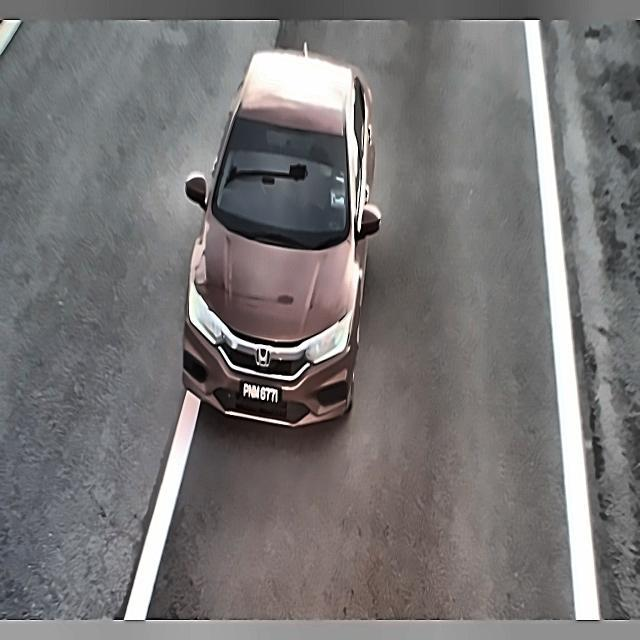car: (238, 371, 283, 413)
